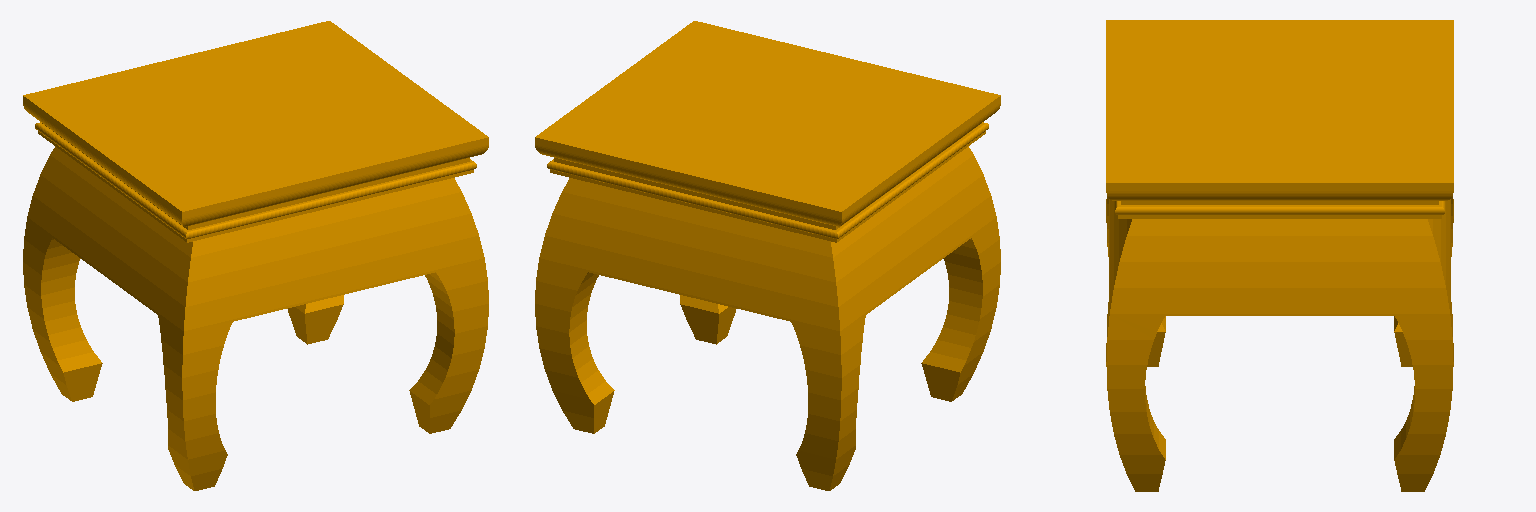
URDF robot description (end_table_03):
<?xml version="1.0" ?>
<robot name="end_table_03">
  <link name="baseLink">
    <contact>
      <lateral_friction value="1.0"/>
      <inertia_scaling value="3.0"/>
    </contact>
    <inertial>
      <origin rpy="0 0 0" xyz="-0.000 0.000 -0.322"/>
       <mass value=".1"/>
       <inertia ixx="1" ixy="0.0" ixz="0.0" iyy="1" iyz="0.0" izz="1"/>
    </inertial>
    <visual>
      <origin rpy="0 0 0" xyz="0 0 0"/>
      <geometry>
        <mesh filename="visual.obj" scale="1.000 1.000 1.000"/>
      </geometry>
      <material name="texture_material">
            <texture filename="texture.png"/>
      </material>
    </visual>
    <collision>
      <origin rpy="0 0 0" xyz="0 0 0"/>
      <geometry>
        <mesh filename="visual.obj" scale="1.000 1.000 1.000"/>
      </geometry>
    </collision>
  </link>
</robot>
        

--- Render facts (derived) ---
3 views of the same robot in one strip: view 1: azimuth 30°, elevation 25°; view 2: azimuth 150°, elevation 25°; view 3: azimuth 270°, elevation 25° (orthographic).
Model end_table_03 with 1 links and 0 joints (none), rooted at baseLink, posed every joint at zero.
Links seen in each view (by area): view 1: baseLink; view 2: baseLink; view 3: baseLink.
Boxes of the visible links, bbox=[...] form: baseLink: bbox=[23, 21, 488, 490]; baseLink: bbox=[535, 21, 1000, 490]; baseLink: bbox=[1106, 20, 1453, 491].
Size in the robot's own frame: 0.7 by 0.63 by 0.644 metres.
Meshes: 1 distinct files referenced, 1 mesh visuals loaded (1 OBJ).
